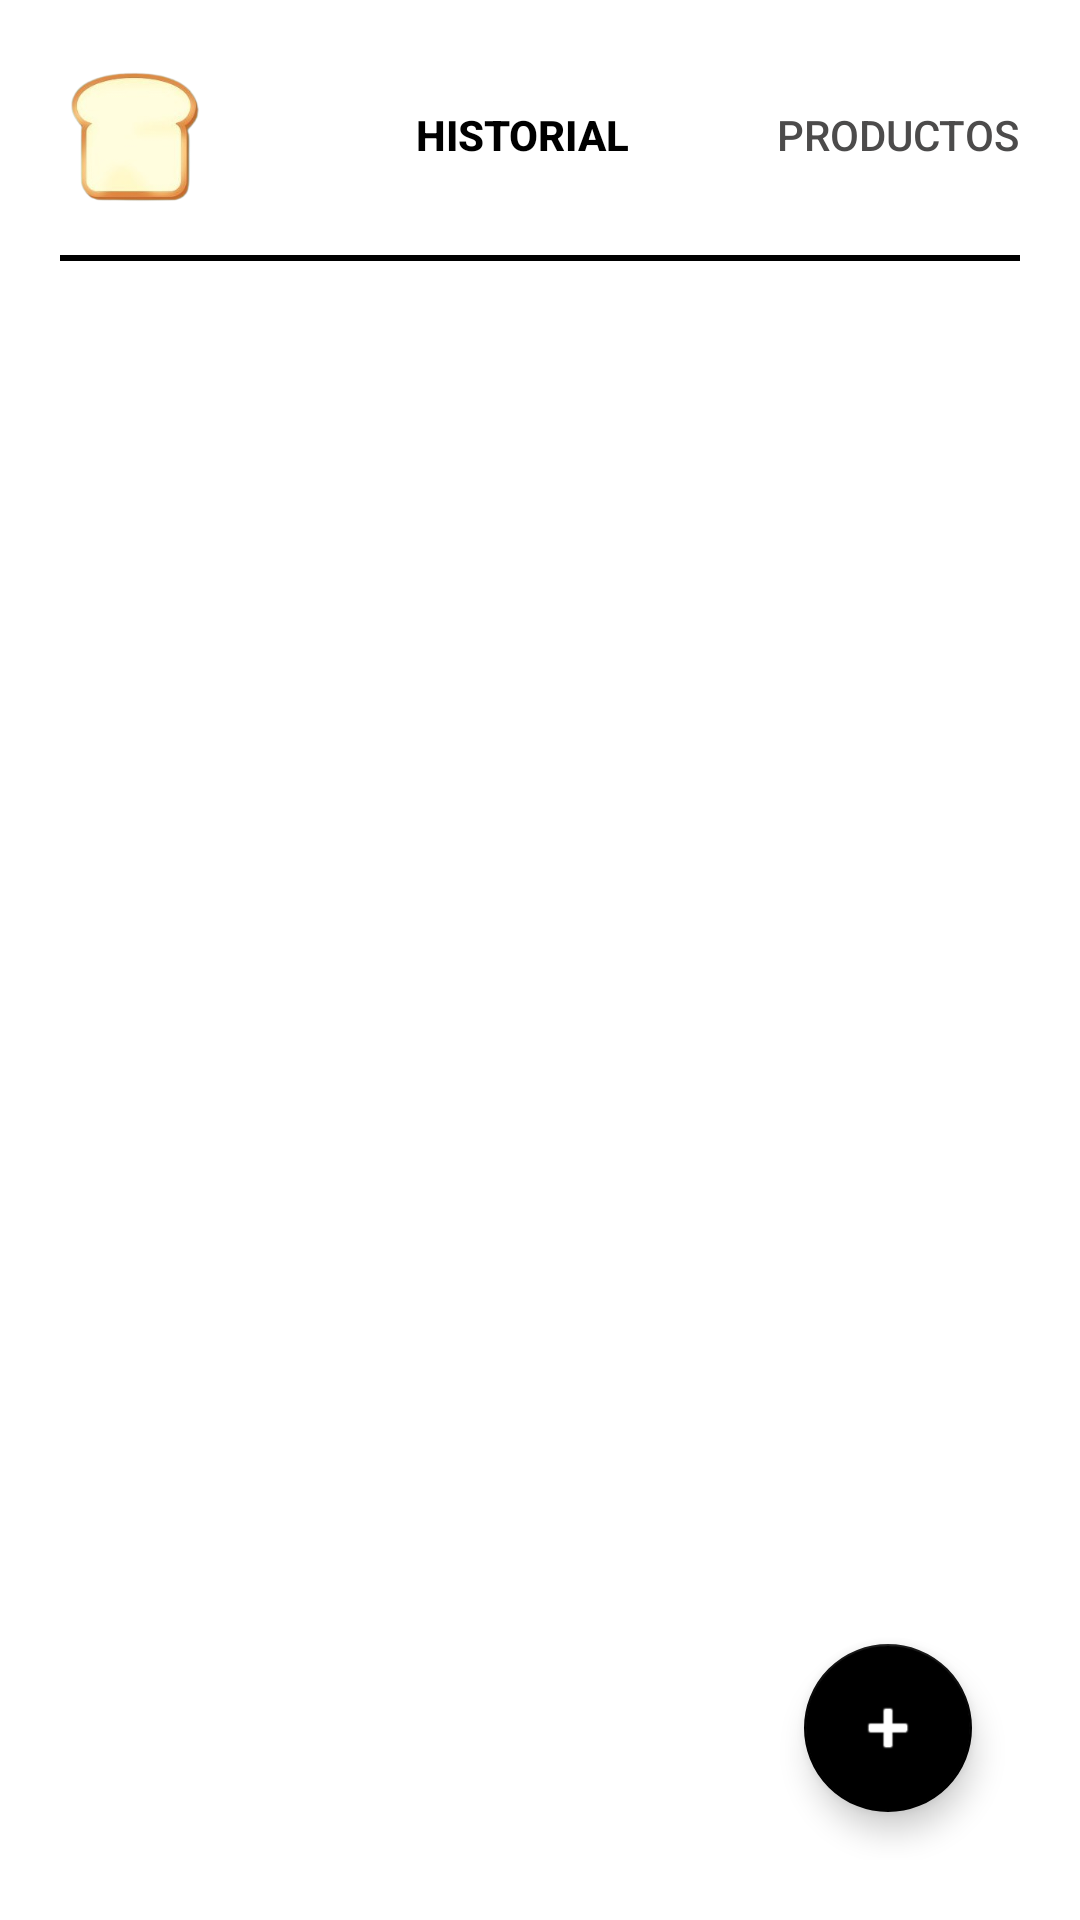

Icons on this 1080 × 1920 Android screen, each with the point to tap as (x,y):
Agregar nuevo pedido: (888,1728)
